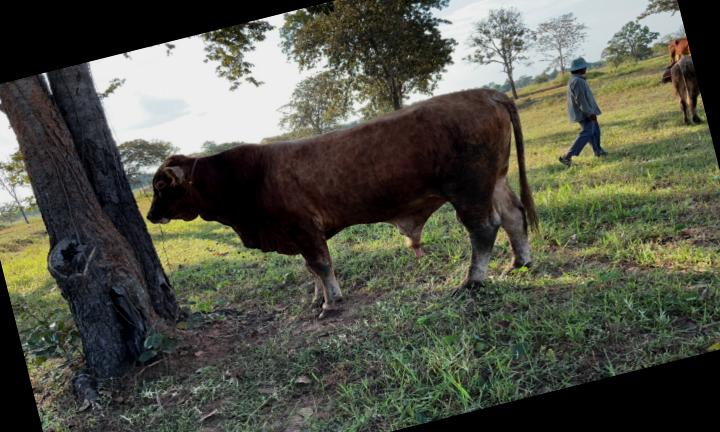Charolais: (147, 88, 537, 316)
